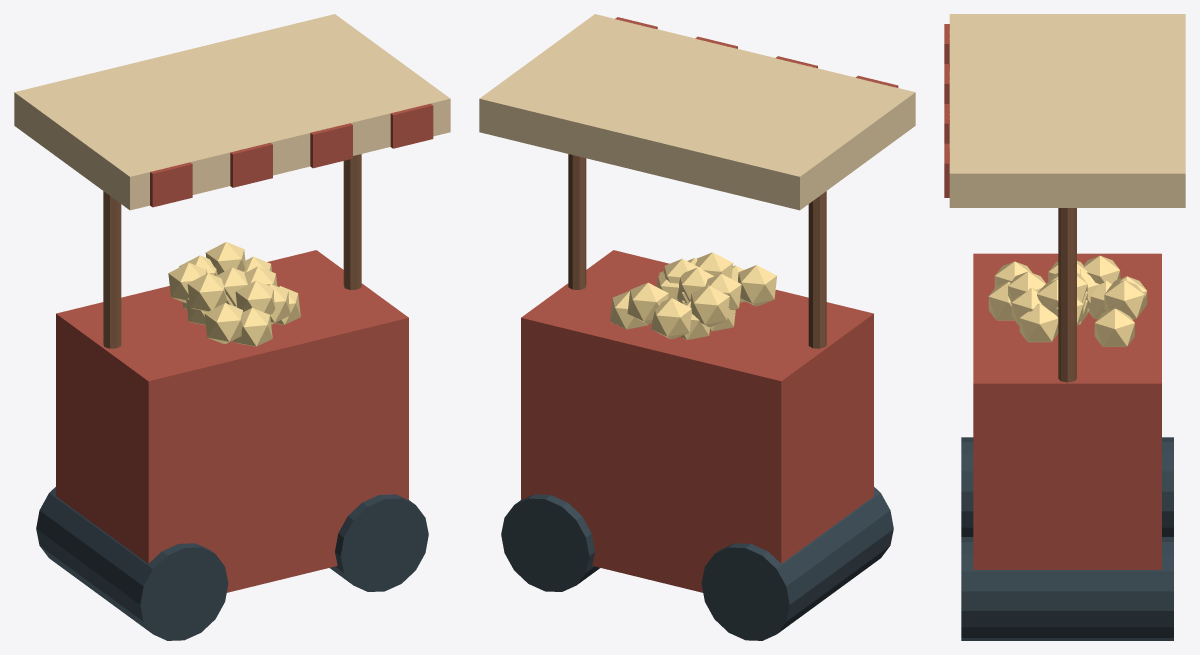
File: popcorn_stand.glb
The picture shows the model from 3 angles, left to right: view 1: azimuth 30°, elevation 25°; view 2: azimuth 150°, elevation 25°; view 3: azimuth 270°, elevation 25°; orthographic projection. The views are drawn at different scales.
Parts seen in each view (by area): view 1: cart, canopy, wheel, wheel.001, post, post.001, stripe.003, stripe.002, stripe.001, stripe, popcorn.007, popcorn.017 (+5 smaller); view 2: cart, canopy, wheel, wheel.001, post, post.001, popcorn.019, popcorn.014, popcorn.007, popcorn.011, popcorn.003, popcorn.017 (+2 smaller); view 3: cart, canopy, wheel.001, post.001, wheel, popcorn.003, popcorn.018, popcorn.011, popcorn.014, popcorn.015, popcorn.002, popcorn.010 (+3 smaller).
Part boxes in pixels (x1=…): cart: x1=56, y1=250, x2=408, y2=592; canopy: x1=14, y1=14, x2=450, y2=210; wheel: x1=36, y1=487, x2=228, y2=640; wheel.001: x1=330, y1=494, x2=428, y2=591; post: x1=103, y1=191, x2=121, y2=348; post.001: x1=343, y1=154, x2=361, y2=289; stripe.003: x1=390, y1=103, x2=433, y2=148; stripe.002: x1=310, y1=123, x2=352, y2=168; stripe.001: x1=230, y1=143, x2=272, y2=187; stripe: x1=150, y1=162, x2=192, y2=207; popcorn.007: x1=204, y1=303, x2=243, y2=344; popcorn.017: x1=187, y1=273, x2=226, y2=311; cart: x1=521, y1=250, x2=873, y2=592; canopy: x1=479, y1=14, x2=915, y2=210; wheel: x1=701, y1=487, x2=893, y2=640; wheel.001: x1=501, y1=494, x2=599, y2=591; post: x1=808, y1=191, x2=826, y2=348; post.001: x1=568, y1=154, x2=586, y2=289; popcorn.019: x1=651, y1=298, x2=691, y2=339; popcorn.014: x1=690, y1=286, x2=729, y2=327; popcorn.007: x1=738, y1=265, x2=776, y2=306; popcorn.011: x1=627, y1=282, x2=668, y2=324; popcorn.003: x1=610, y1=291, x2=648, y2=329; popcorn.017: x1=705, y1=273, x2=741, y2=309; cart: x1=973, y1=253, x2=1161, y2=569; canopy: x1=949, y1=14, x2=1185, y2=207; wheel.001: x1=961, y1=537, x2=1173, y2=640; post.001: x1=1058, y1=208, x2=1076, y2=382; wheel: x1=961, y1=437, x2=1173, y2=536; popcorn.003: x1=1094, y1=308, x2=1134, y2=346; popcorn.018: x1=1019, y1=303, x2=1058, y2=342; popcorn.011: x1=1104, y1=280, x2=1144, y2=319; popcorn.014: x1=1083, y1=255, x2=1120, y2=284; popcorn.015: x1=988, y1=282, x2=1014, y2=320; popcorn.002: x1=1008, y1=271, x2=1045, y2=303; popcorn.010: x1=1011, y1=288, x2=1041, y2=326.
Size of the model in its own units: 1.6 by 2.3 by 1.02.
